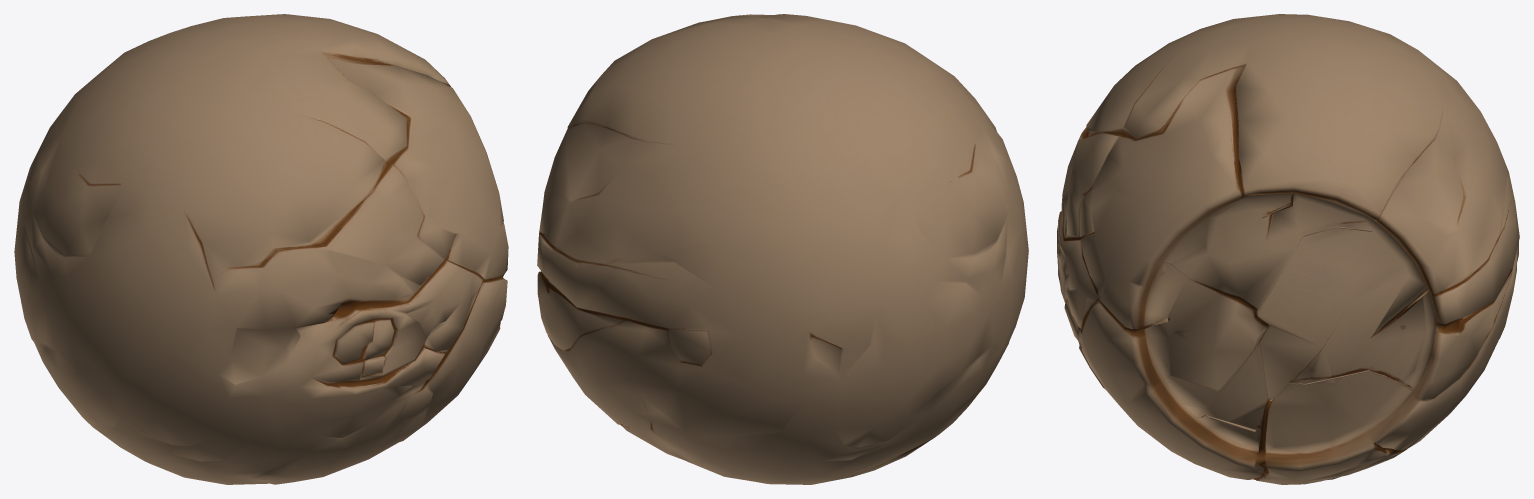
Rendered from wardens_cracked_prism.glb.
3 renders of one model, left to right at view 1: azimuth 30°, elevation 25°; view 2: azimuth 150°, elevation 25°; view 3: azimuth 270°, elevation 25°, orthographic.
Parts seen in each view (by area): view 1: base_model_path; view 2: base_model_path; view 3: base_model_path.
Boxes of the visible parts, x1=… form: base_model_path: x1=14, y1=14, x2=508, y2=484; base_model_path: x1=537, y1=14, x2=1028, y2=484; base_model_path: x1=1057, y1=14, x2=1519, y2=484.
Size of the model in its own units: 0.9824 by 0.9942 by 0.9981.
1 material, 1 textured.
